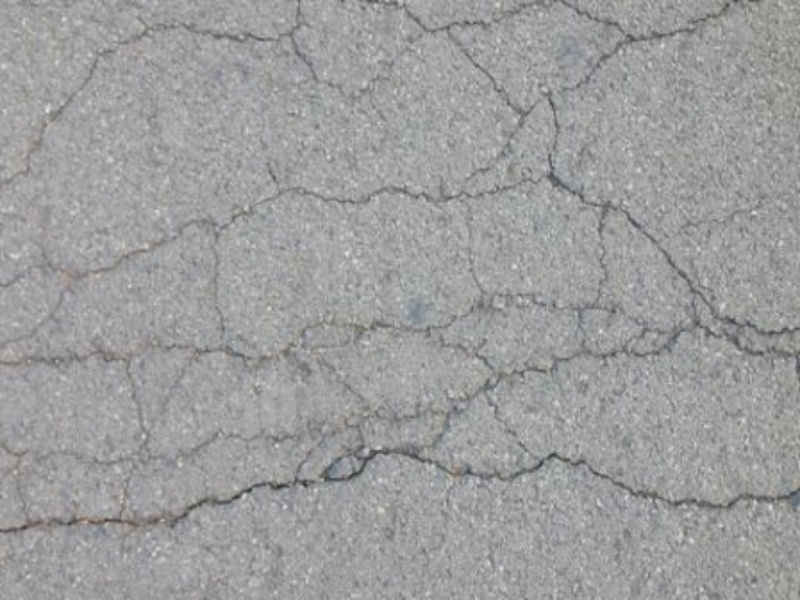crack: (4, 454, 793, 545), (7, 180, 561, 294), (5, 9, 310, 197), (529, 142, 792, 345), (385, 326, 712, 467), (7, 326, 517, 408), (526, 12, 729, 131), (299, 340, 469, 440), (420, 12, 556, 124), (280, 21, 452, 101)
